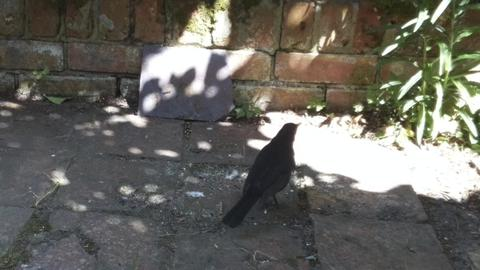blackbird: (221, 121, 303, 228)
